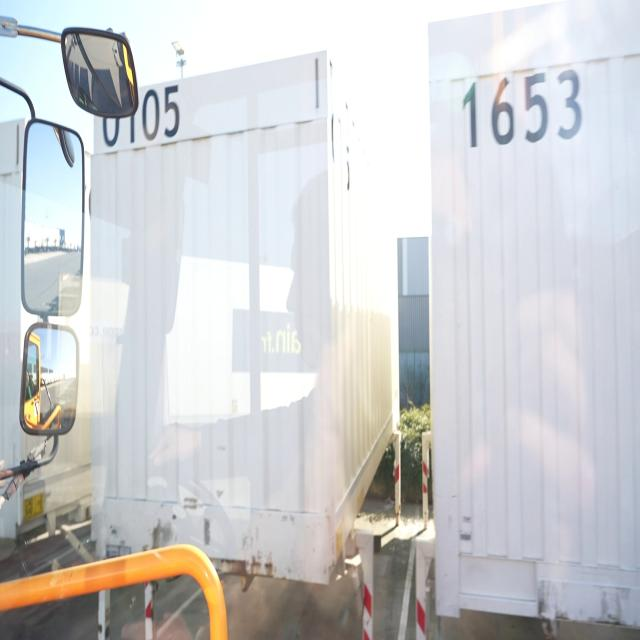Code: (460, 68, 584, 156)
